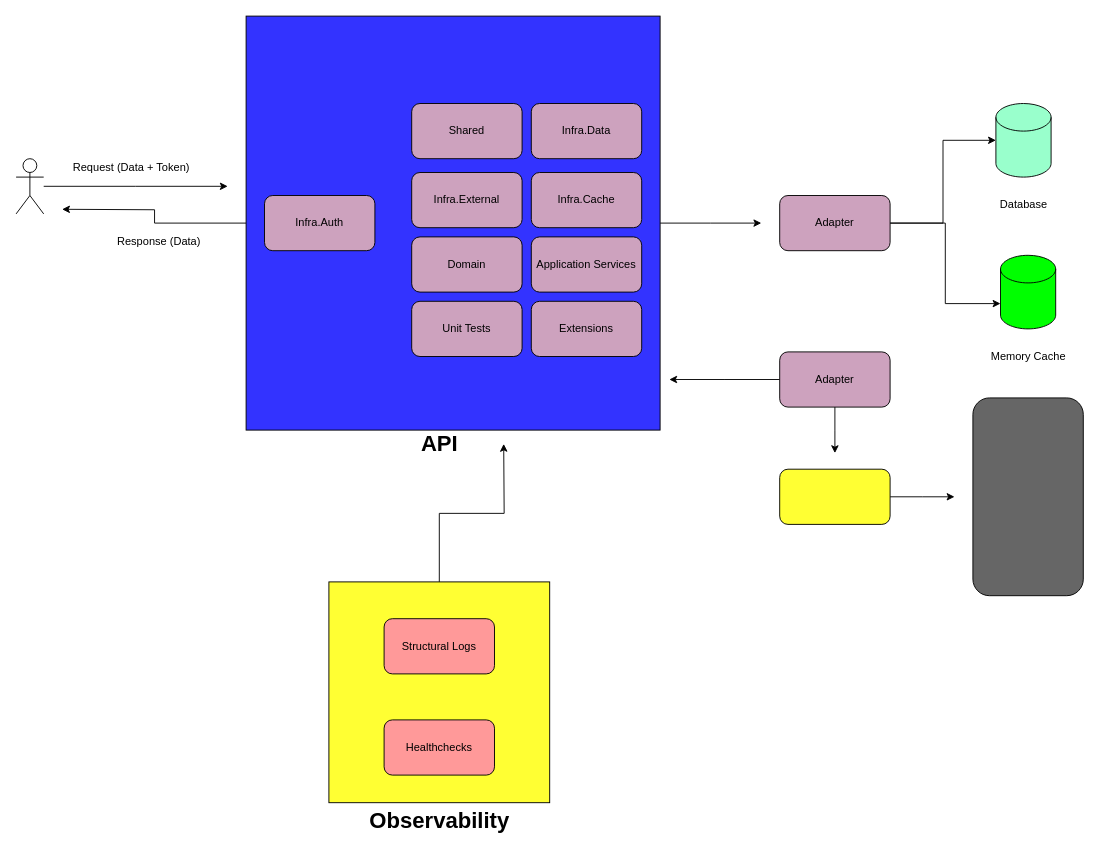
Some shapes in this 1099 by 856 pixel diagram are drawn without their labels. The shapes that lost their labels are listed below. From the top down, each one's centre as x and y in pixels, then its label:
At point 29,186: "Actor".
At point 834,496: "Resilience".
At point 1027,496: "External Services".
